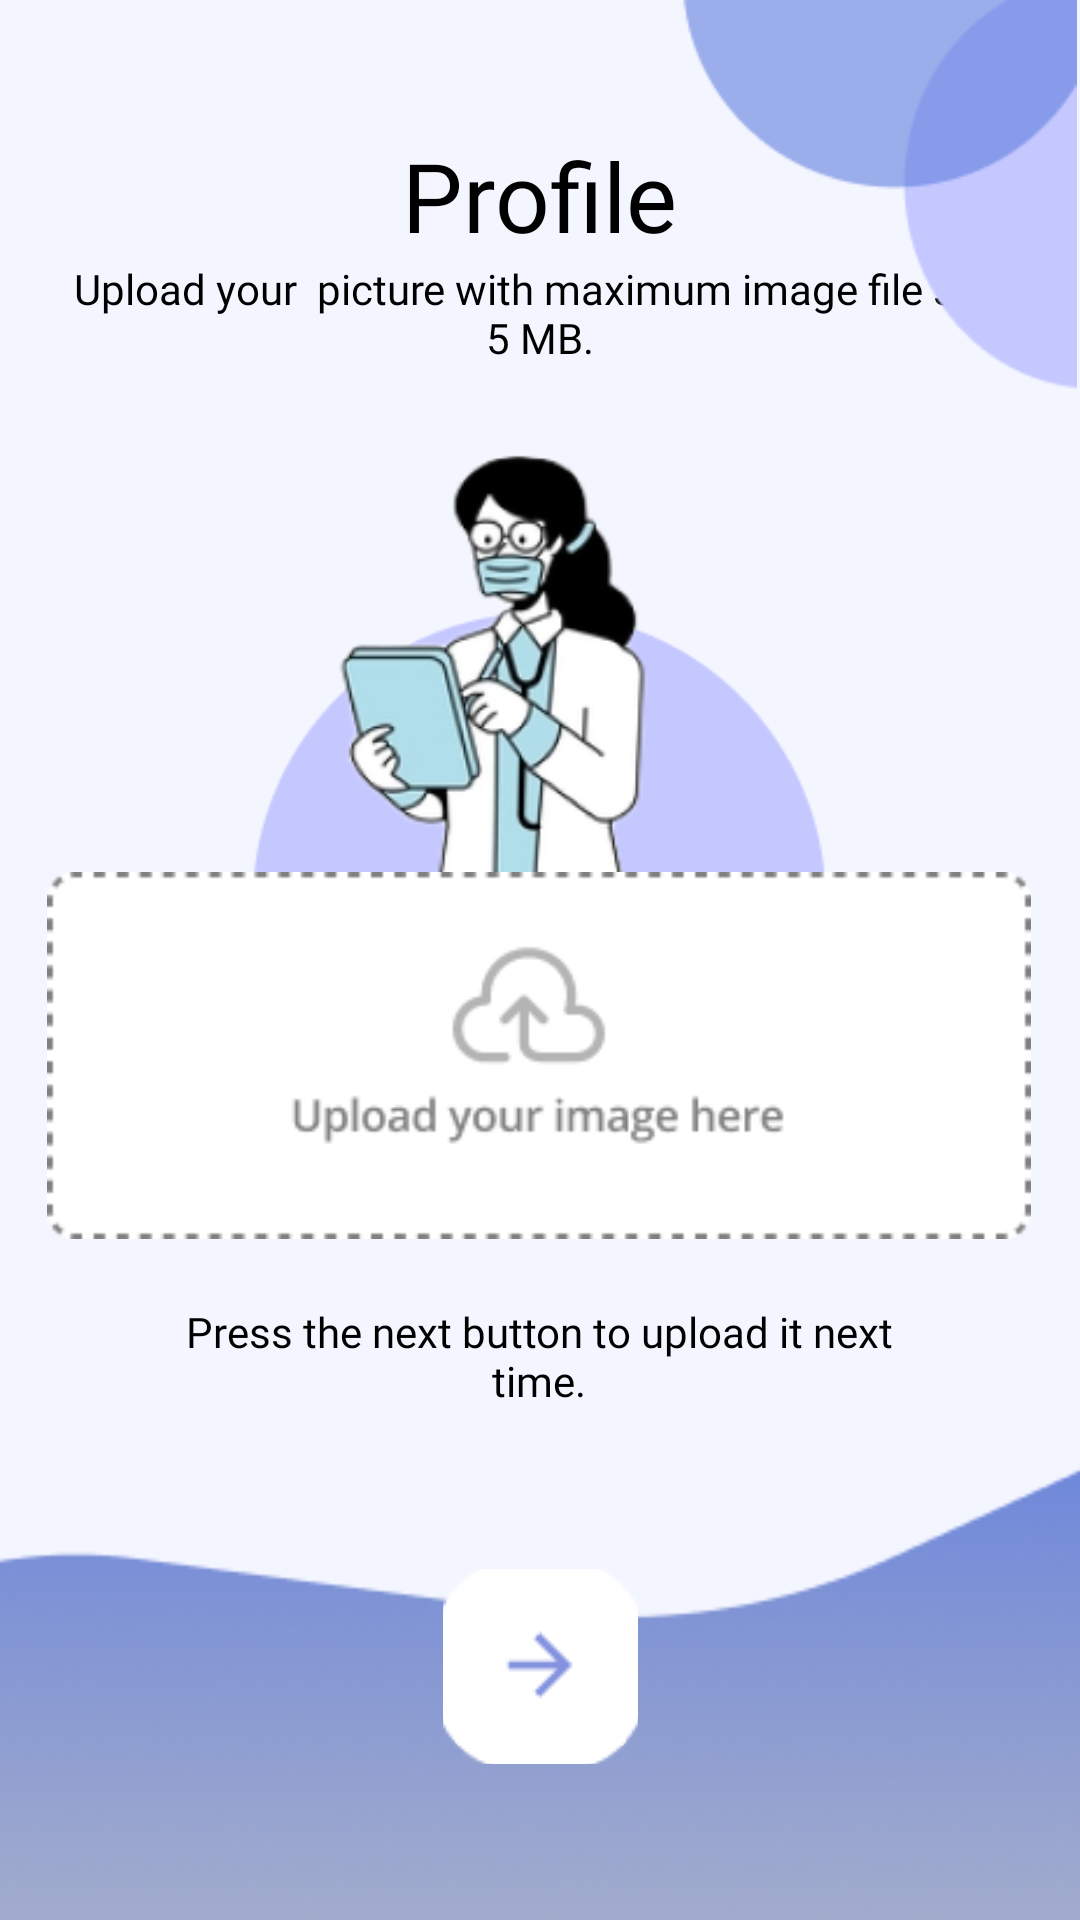

Icon click points for this 1080×1920 phone screenshot, format (x=x, y=y):
next terang: (x=540, y=1666)
